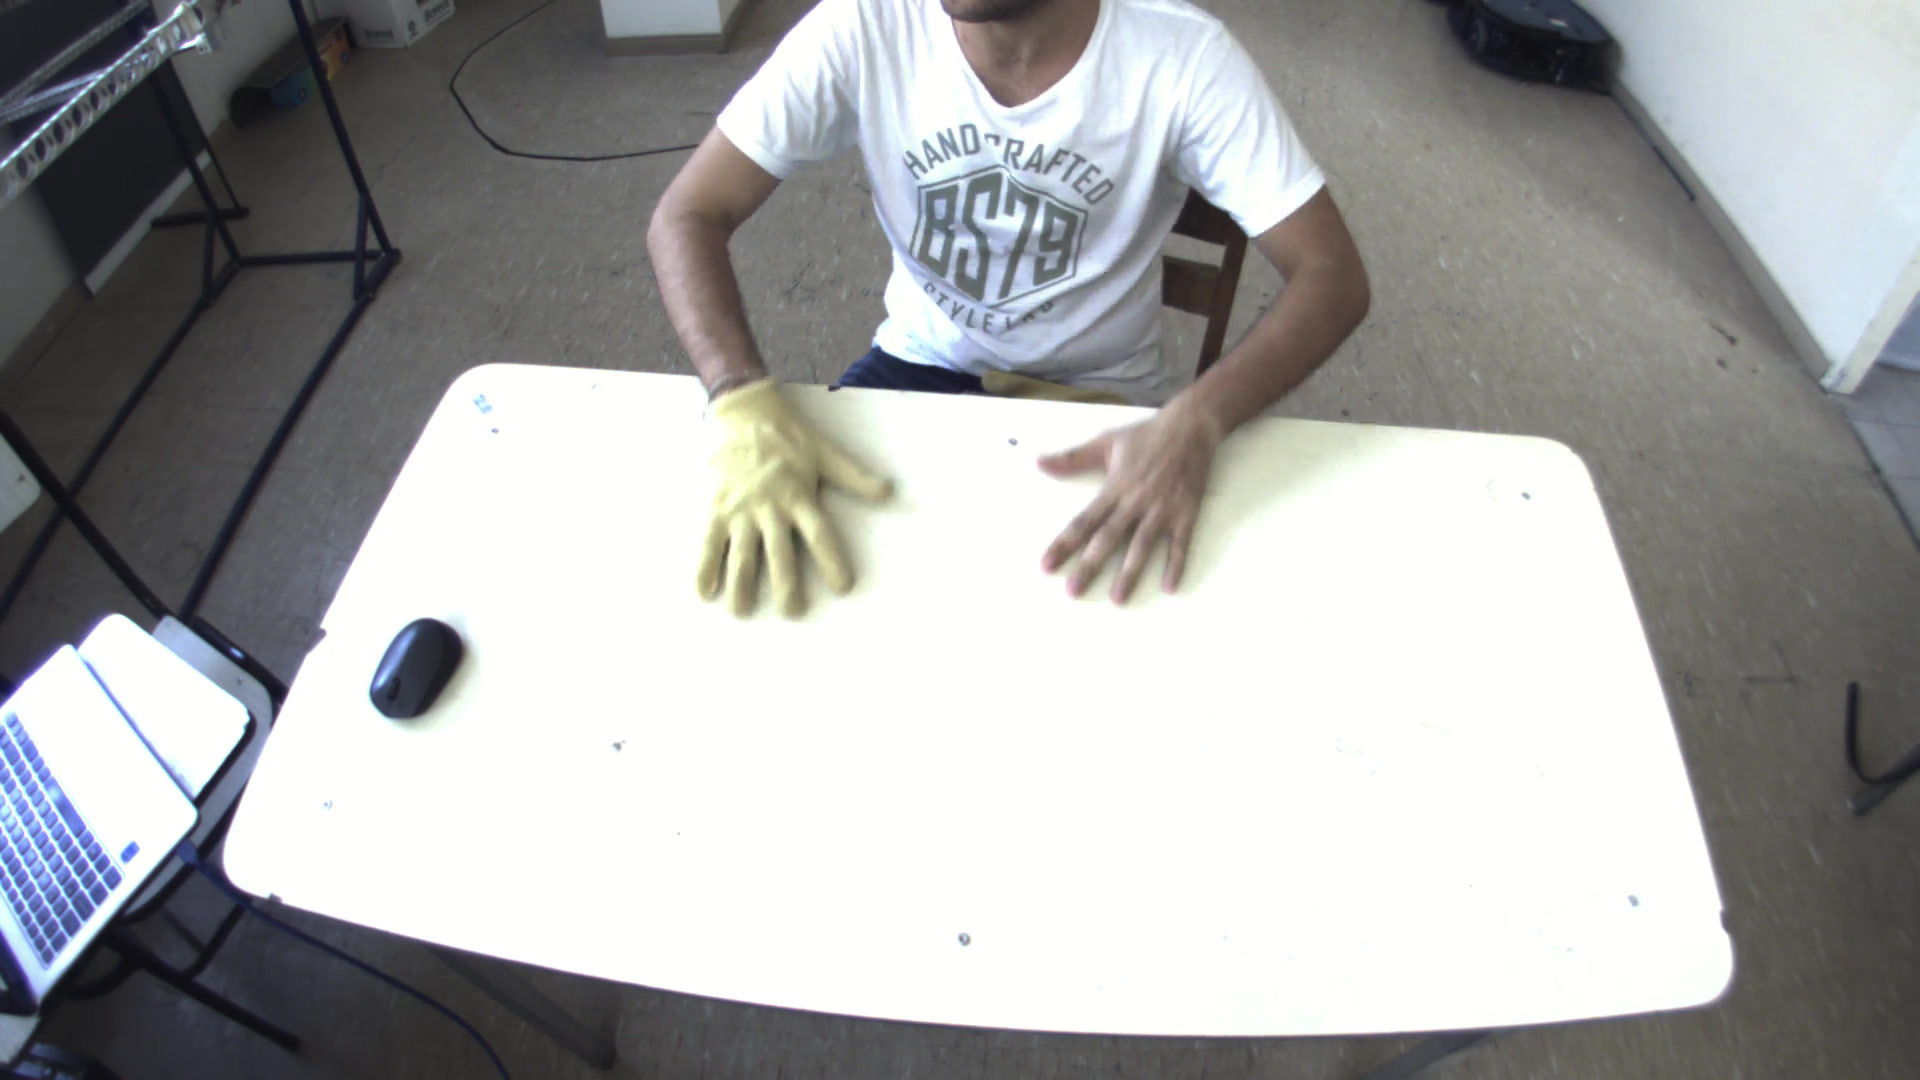hand: (682, 353, 905, 632), (1033, 388, 1237, 611)
